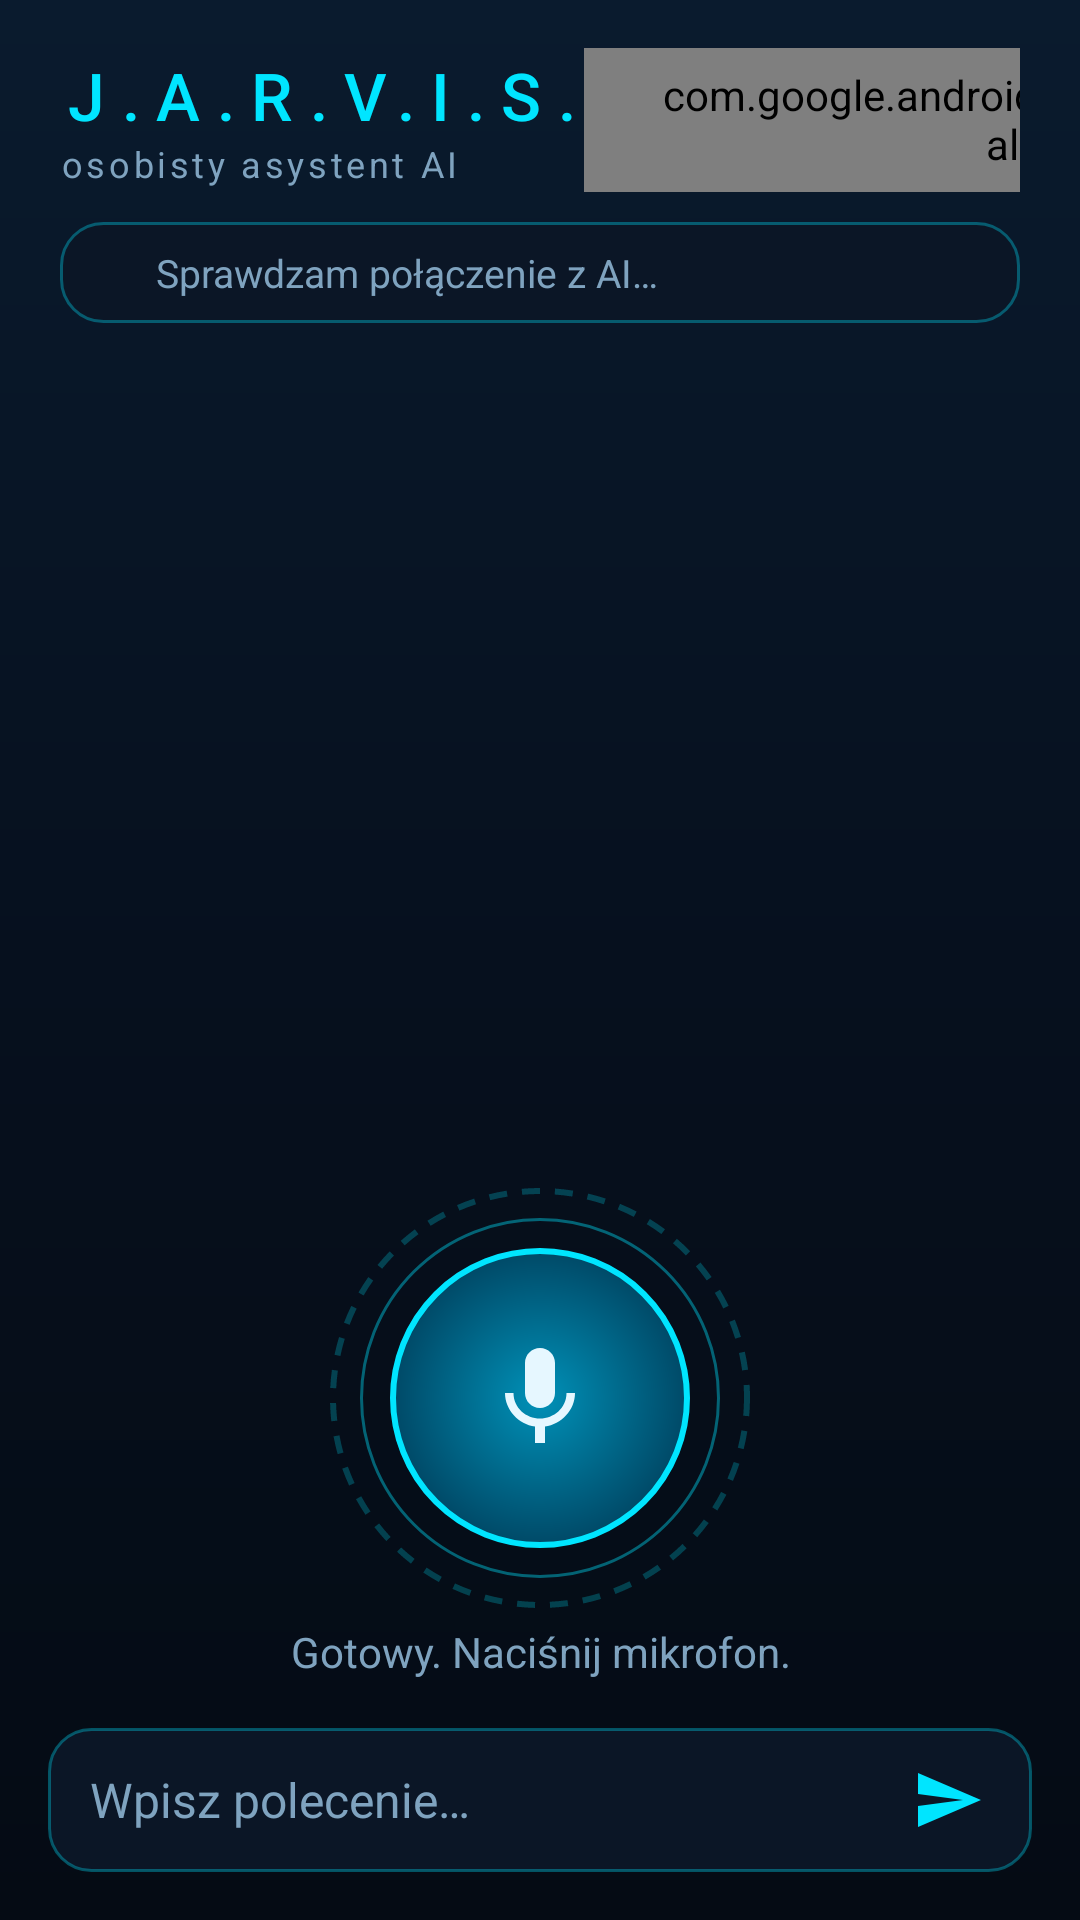

Screen size 1080×1920. Icon name, then its box in pixels as box(x1, y1, x2, y2):
Wyślij: box(876, 1728, 1020, 1872)
